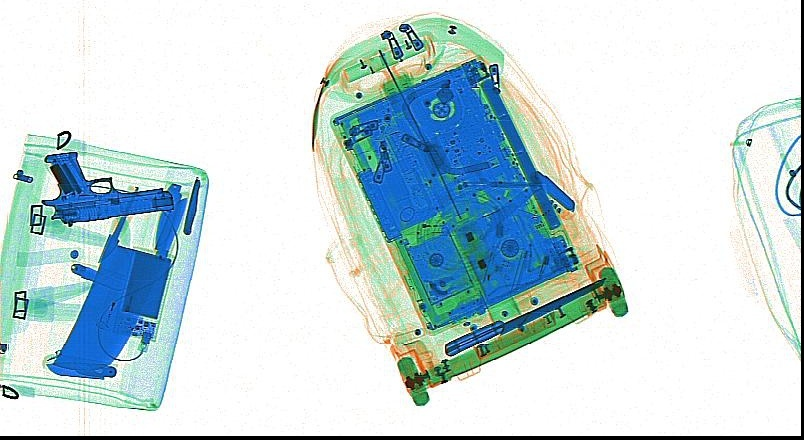knife: (52, 186, 170, 372), (442, 276, 607, 356), (446, 180, 544, 272), (152, 190, 191, 262), (40, 350, 116, 379), (69, 257, 131, 291), (153, 181, 182, 251), (529, 170, 576, 212), (180, 177, 201, 234)
scissors: (452, 169, 546, 197)
